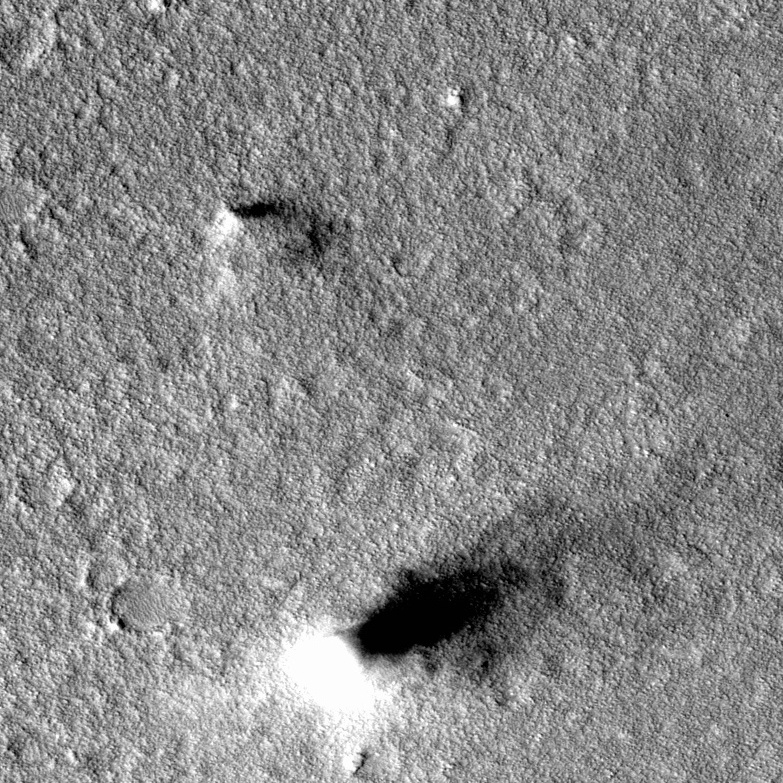dust_devil: (266, 492, 586, 736), (202, 194, 357, 287)
